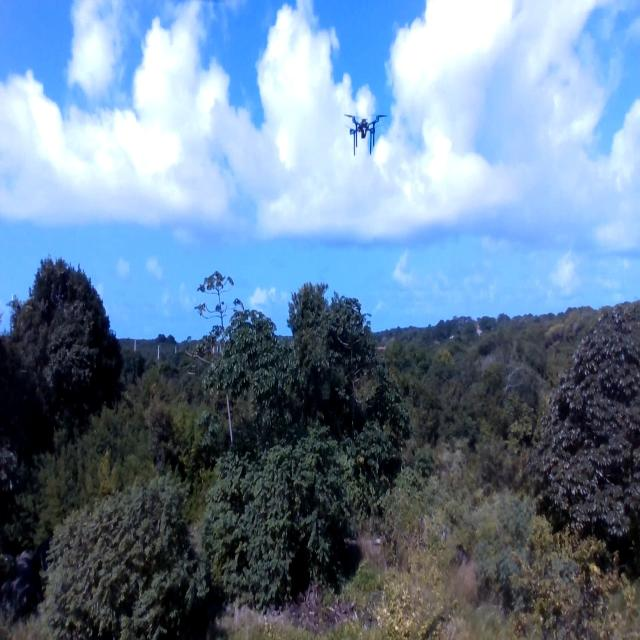-uav-: (337, 101, 391, 163)
